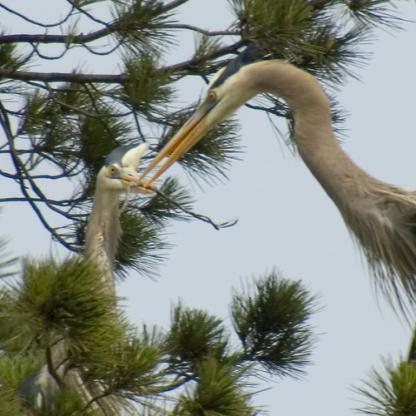bird: (134, 34, 415, 336), (12, 141, 156, 415)
